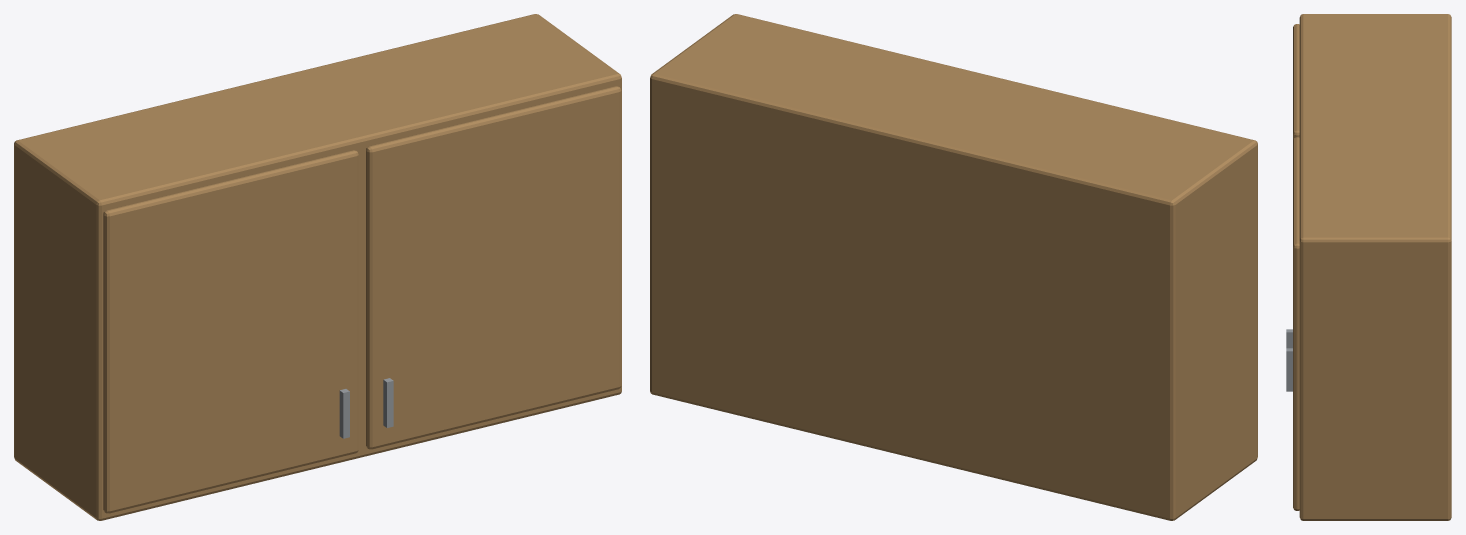
Rendered from wall_cabinet.glb.
The picture shows the model from 3 angles, left to right: view 1: azimuth 30°, elevation 25°; view 2: azimuth 150°, elevation 25°; view 3: azimuth 270°, elevation 25°; orthographic projection. The views are drawn at different scales.
Visible parts, largest first — view 1: wall_cabinet; view 2: wall_cabinet; view 3: wall_cabinet.
Part boxes in pixels (x1,y1,x2,y2): wall_cabinet: (14, 14, 621, 520); wall_cabinet: (650, 14, 1257, 520); wall_cabinet: (1286, 14, 1451, 520).
Size of the model in its own units: 1.2 by 0.7 by 0.37.
